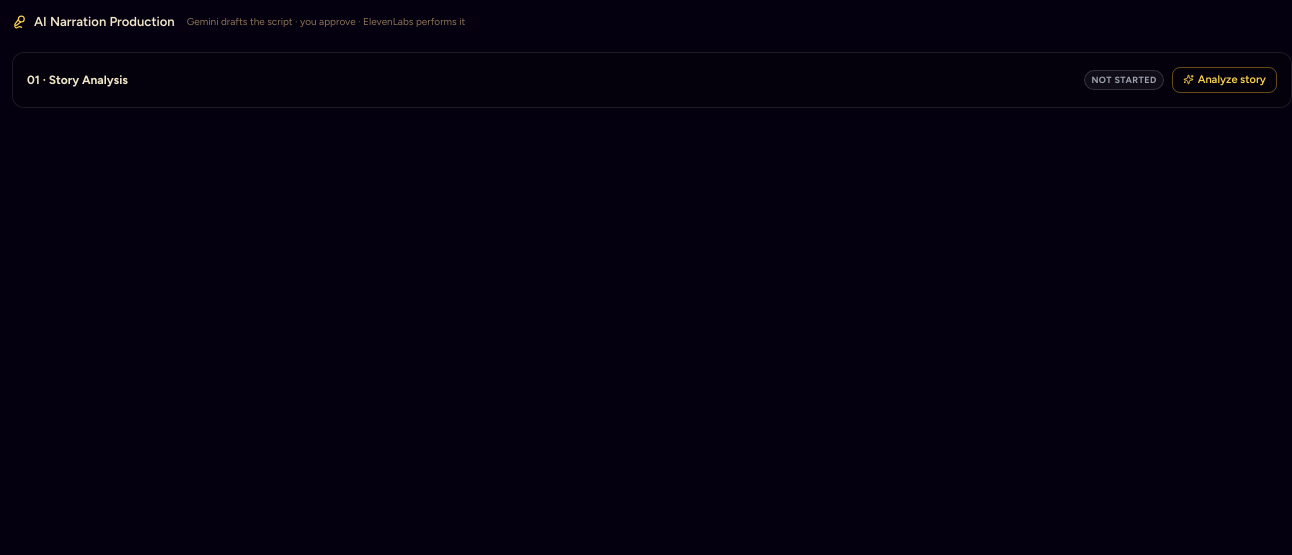
Test: scene audio observations from Gemini are displayed when present
Step 1. Click the button with test id "voice-run-story-analysis" → (1224, 80), box [1172, 66, 1277, 93]
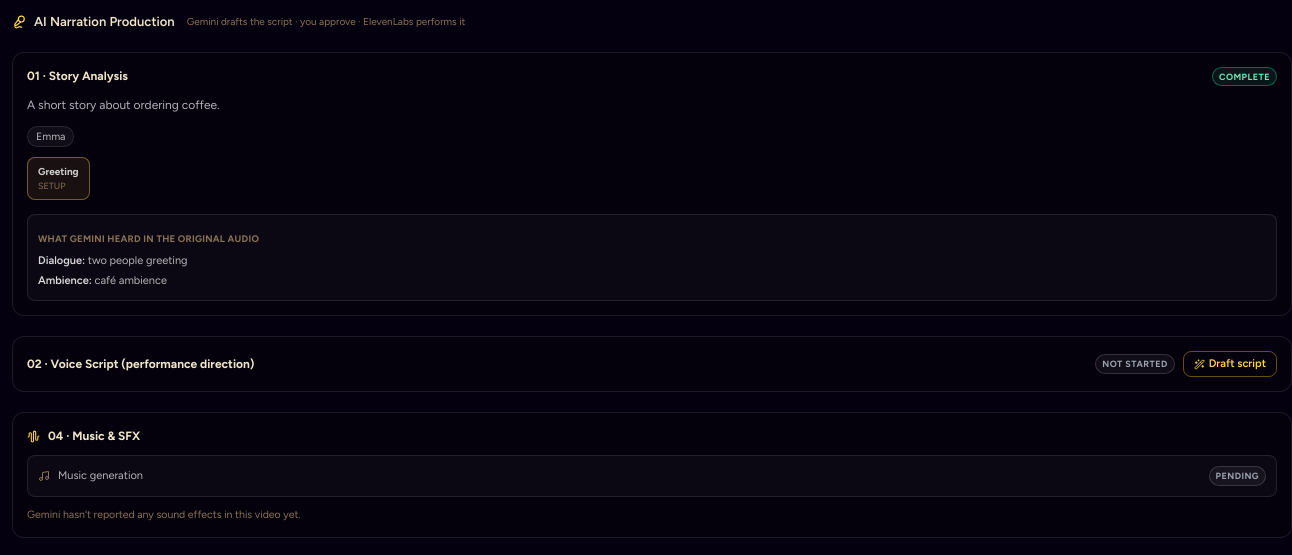
Expected: the element with test id "voice-scene-audio-observations" shows "two people greeting", [88, 254, 188, 267]
Expected: the element with test id "voice-scene-audio-observations" shows "café ambience", [94, 274, 167, 287]
